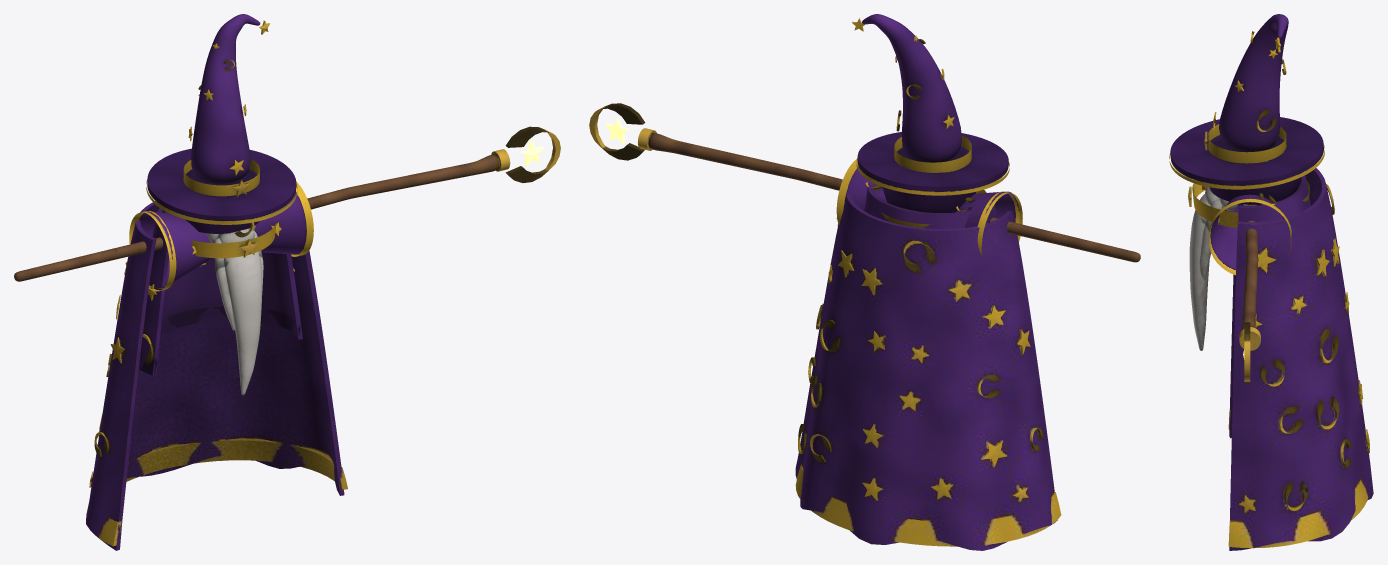
Rendered from npc_merlin.glb.
3 views of the same model, side by side, from view 1: azimuth 30°, elevation 25°; view 2: azimuth 150°, elevation 25°; view 3: azimuth 270°, elevation 25° (orthographic). The views are drawn at different scales.
Visible parts, largest first — view 1: merlin_Hips_peca, merlin_Head_peca, merlin_Spine2_peca, merlin_RightHand_peca, merlin_RightForeArm_peca, merlin_LeftForeArm_peca; view 2: merlin_Hips_peca, merlin_Head_peca, merlin_RightHand_peca, merlin_Spine2_peca, merlin_RightForeArm_peca, merlin_LeftForeArm_peca; view 3: merlin_Hips_peca, merlin_Head_peca, merlin_Spine2_peca, merlin_RightHand_peca, merlin_LeftForeArm_peca.
Part boxes in pixels (x1,y1,x2,y2): merlin_Hips_peca: (86,201,347,550); merlin_Head_peca: (146,14,297,395); merlin_Spine2_peca: (139,206,302,375); merlin_RightHand_peca: (14,126,560,281); merlin_RightForeArm_peca: (129,210,220,291); merlin_LeftForeArm_peca: (254,181,313,256); merlin_Hips_peca: (795,189,1061,550); merlin_Head_peca: (852,14,1009,195); merlin_RightHand_peca: (589,103,1140,262); merlin_Spine2_peca: (864,186,997,229); merlin_RightForeArm_peca: (956,191,1022,256); merlin_LeftForeArm_peca: (836,159,886,225); merlin_Hips_peca: (1188,168,1373,550); merlin_Head_peca: (1169,14,1324,350); merlin_Spine2_peca: (1202,175,1310,288); merlin_RightHand_peca: (1239,204,1260,382); merlin_LeftForeArm_peca: (1208,192,1291,275).
Bounding box in the file's own units: 1.81 × 1.53 × 0.572.
Materials: 7 (6 with a texture image).
